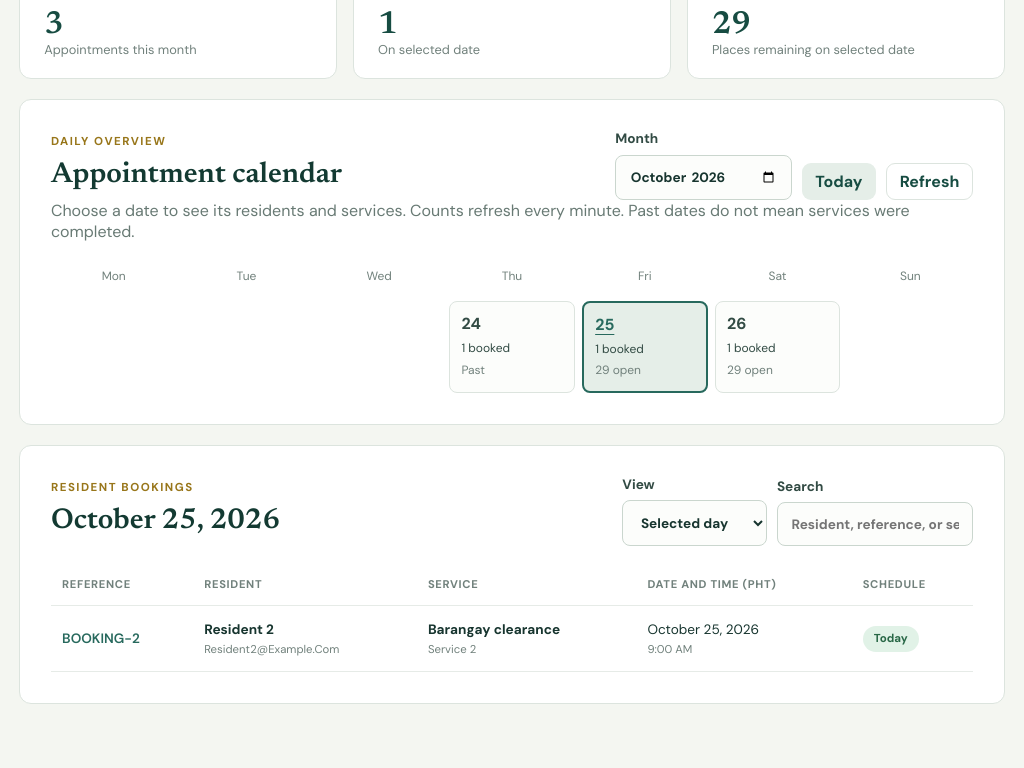
Test: automatic appointments › groups dates into upcoming and past and searches residents
(page scrolled)
Expected: the text "Resident 2" is shown, [204,621,274,638]
Select "Upcoming" in the dropdown labelled "View" at (695, 523), box [622,500,767,546]
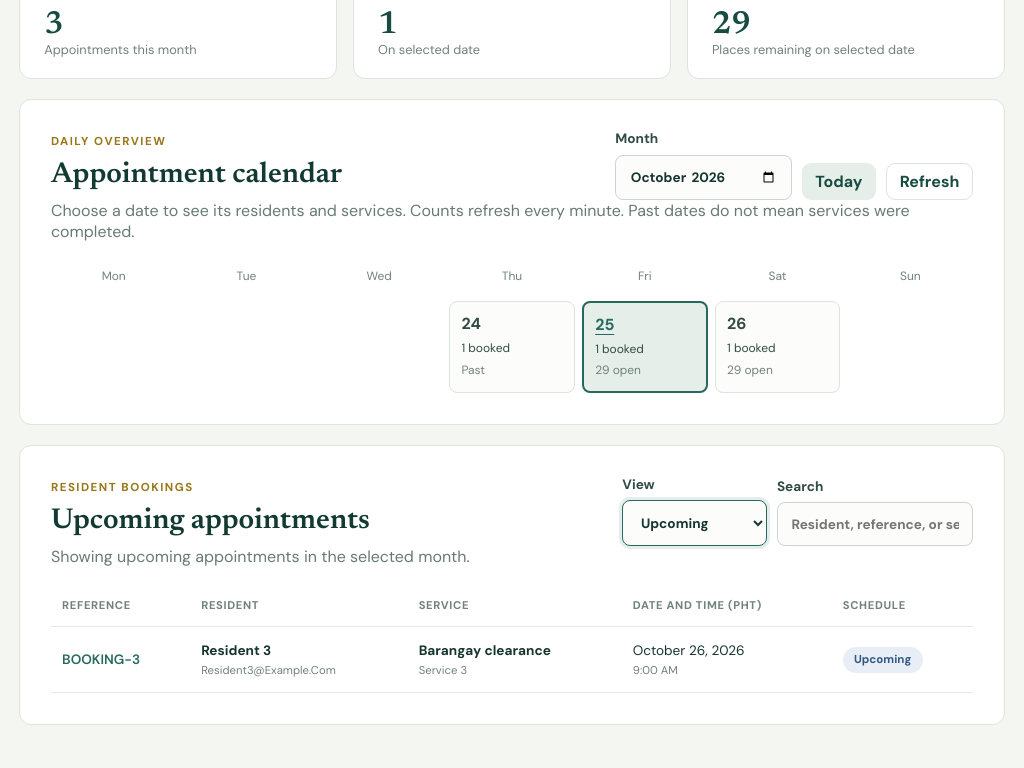
Expected: the text "Resident 1" is not shown
Result: the text "Resident 3" is shown at [201,642,271,659]
Type "unknown resident" into the field labelled "Search" at (875, 524), box [777,502,973,546]
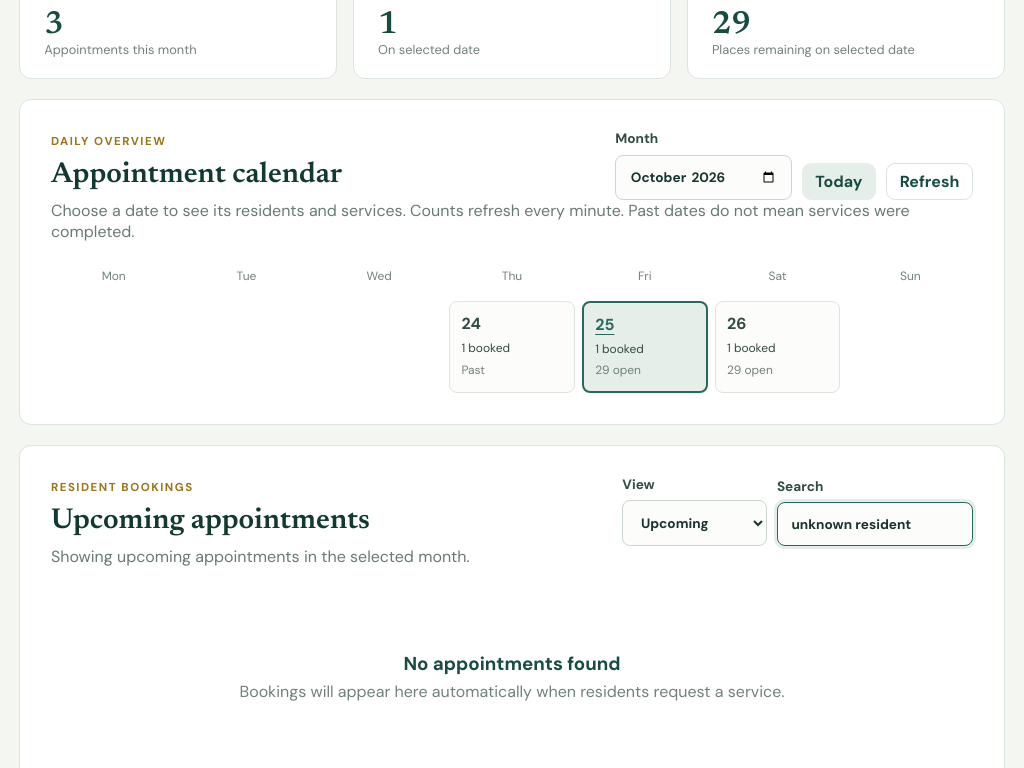
Result: the heading "No appointments found" is shown at [403,651,621,676]
Clear the field labelled "Search" at (875, 524), box [777,502,973,546]
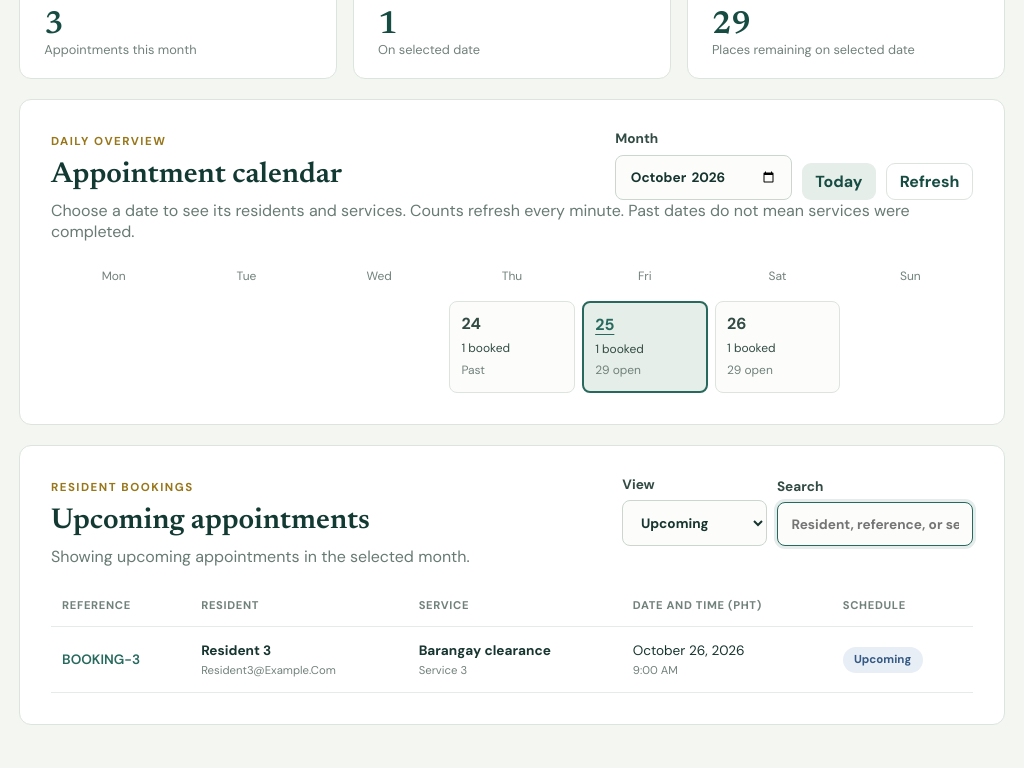
Select "Past" in the dropdown labelled "View" at (695, 523), box [622,500,767,546]
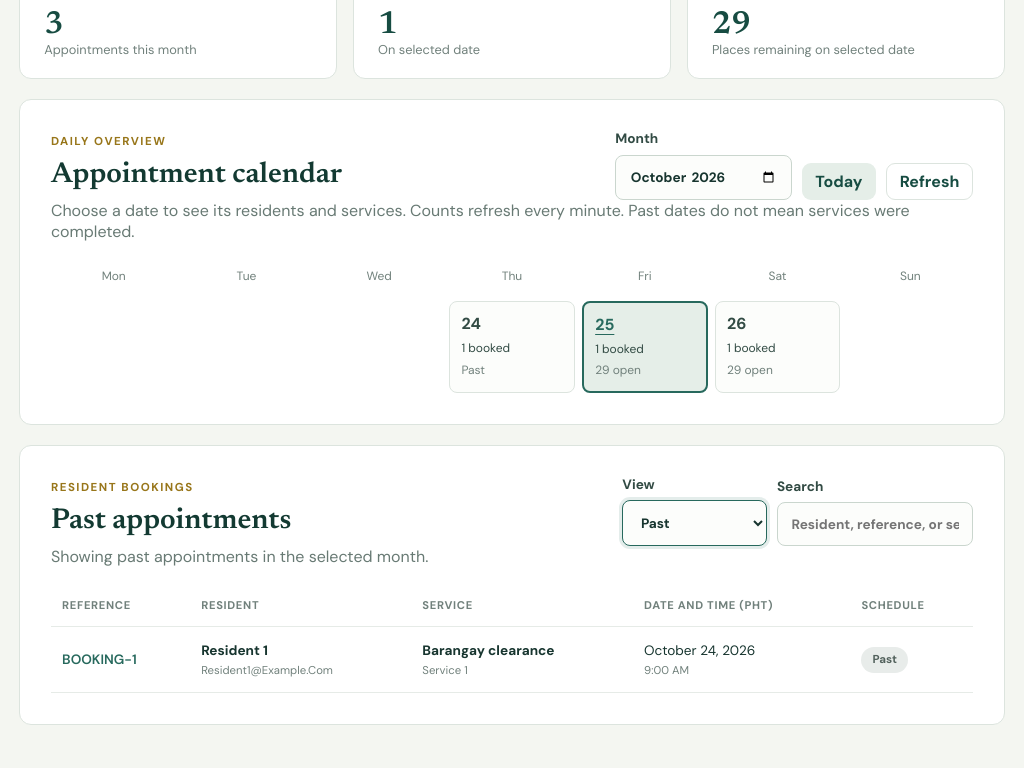
Result: the text "Resident 1" is shown at [201,642,268,659]
